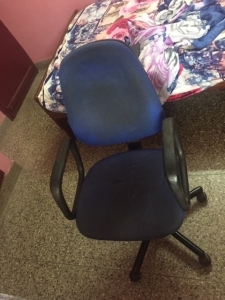chair: (50, 39, 211, 282)
